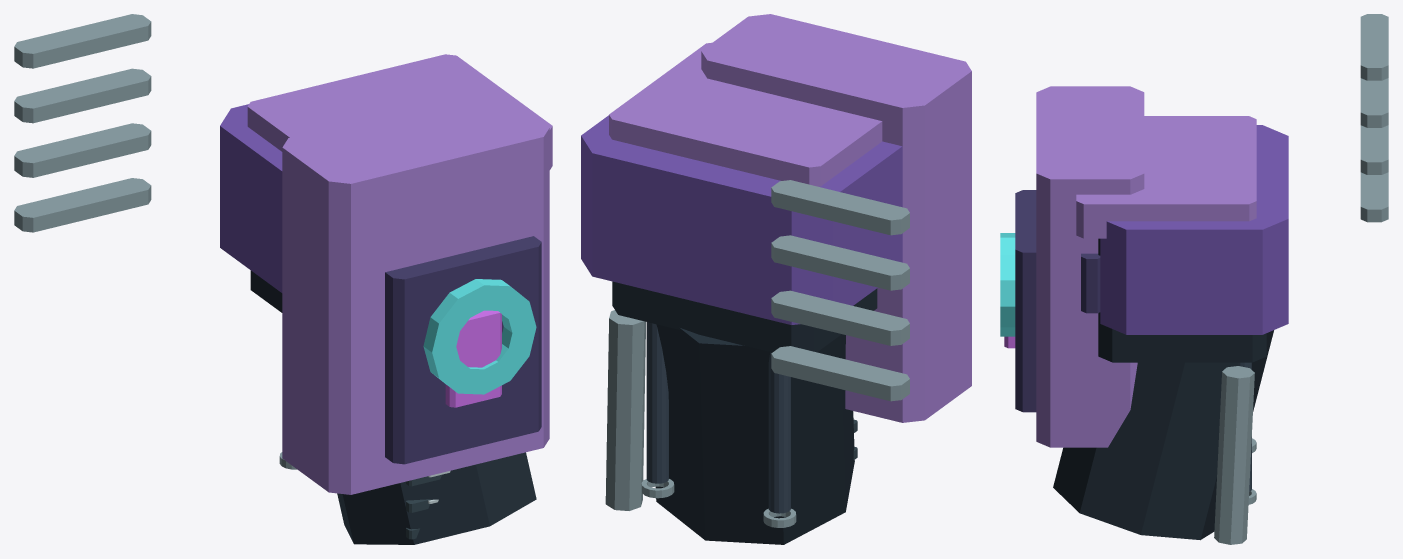
Rendered from enemy_tank_4k_upper_arm_r.obj.
The picture shows the model from 3 angles, left to right: view 1: azimuth 30°, elevation 25°; view 2: azimuth 150°, elevation 25°; view 3: azimuth 270°, elevation 25°; orthographic projection. The views are drawn at different scales.
Bounding box in the file's own units: 0.96 × 1.08 × 0.97.
